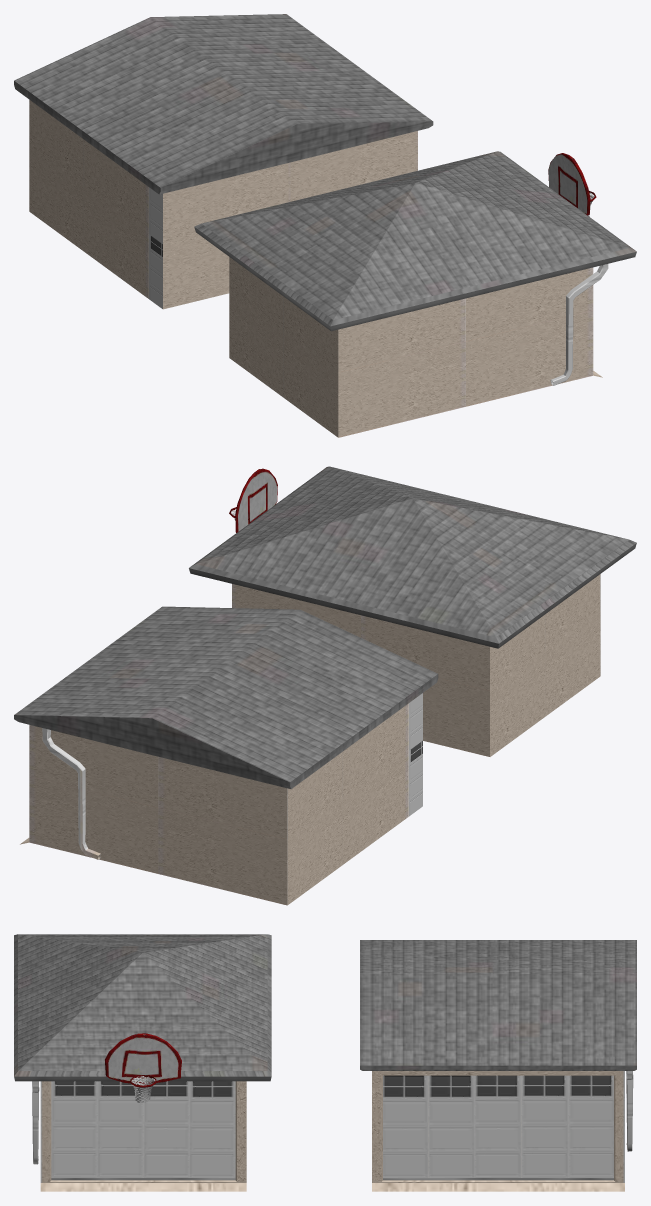
The model's file is residential_garage_pack_-_1mb.glb.
3 views of the same model, one above another, from view 1: azimuth 30°, elevation 25°; view 2: azimuth 150°, elevation 25°; view 3: azimuth 270°, elevation 25° (orthographic). The views are drawn at different scales.
Visible parts, largest first — view 1: garage1.002, garage1.001, BballHoop.001; view 2: garage1.001, garage1.002, BballHoop.001; view 3: garage1.001, garage1.002, BballHoop.001.
Part boxes in pixels (<box>): garage1.002: <box>194,151,636,437</box>; garage1.001: <box>14,14,433,309</box>; BballHoop.001: <box>548,153,596,216</box>; garage1.001: <box>14,606,438,905</box>; garage1.002: <box>189,466,636,756</box>; BballHoop.001: <box>229,468,277,532</box>; garage1.001: <box>360,940,636,1191</box>; garage1.002: <box>14,934,271,1191</box>; BballHoop.001: <box>105,1033,181,1102</box>.
Bounding box in the file's own units: 5.36 × 2.89 × 9.19.
2 materials, 2 textured.
